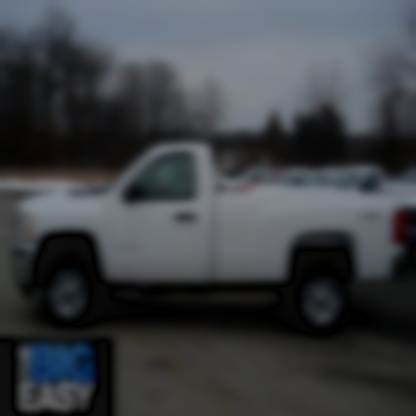Vehicle: (13, 141, 409, 336)
